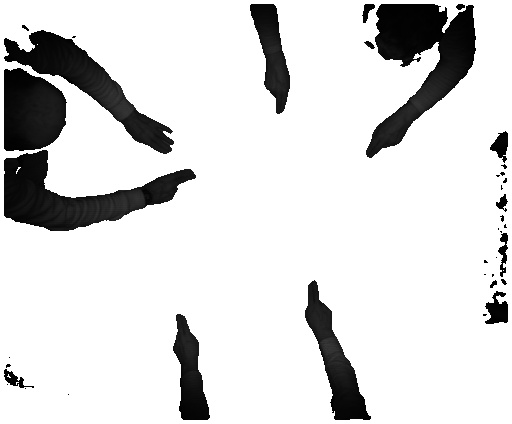hand: (360, 110, 412, 159), (168, 312, 207, 371), (128, 112, 175, 159), (147, 168, 199, 207), (264, 63, 295, 119), (304, 280, 334, 333)
